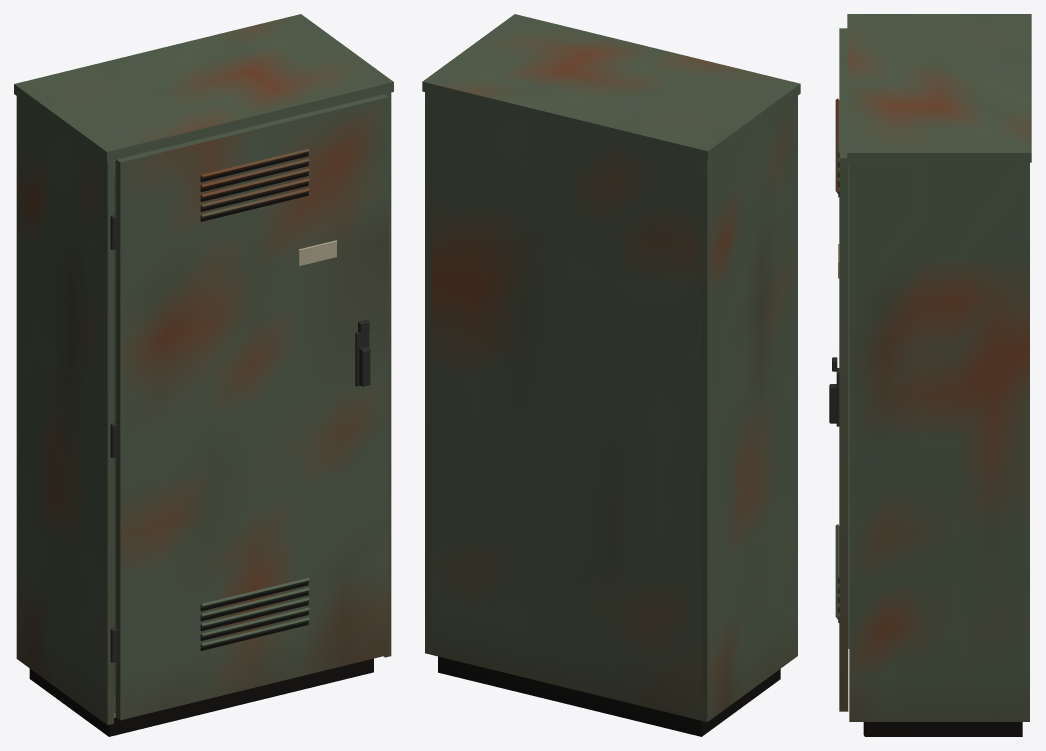
Rendered from metal_locker_01.glb.
3 renders of one model, left to right at view 1: azimuth 30°, elevation 25°; view 2: azimuth 150°, elevation 25°; view 3: azimuth 270°, elevation 25°, orthographic.
Visible parts, largest first — view 1: locker_door, locker_body, locker_door_hardware; view 2: locker_body; view 3: locker_body, locker_door, locker_door_hardware.
Boxes of the visible parts, x1,y1,x2,y2 form: locker_door: (115, 94, 388, 720); locker_body: (14, 14, 393, 736); locker_door_hardware: (110, 215, 370, 662); locker_body: (422, 14, 800, 736); locker_body: (847, 14, 1031, 736); locker_door: (835, 28, 849, 711); locker_door_hardware: (829, 357, 839, 426).
Size of the model in its own units: 0.91 by 1.8 by 0.56.
